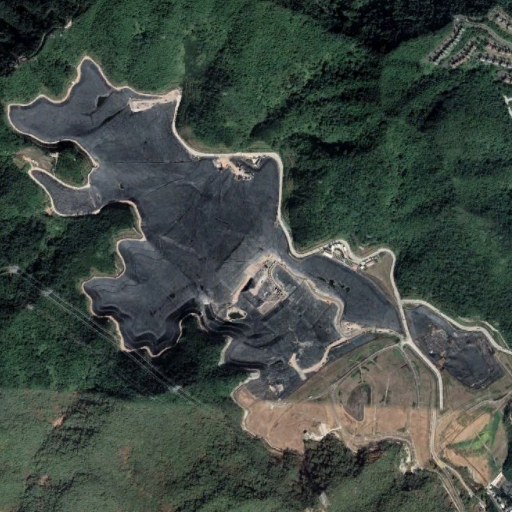lf: (6, 58, 512, 398)
